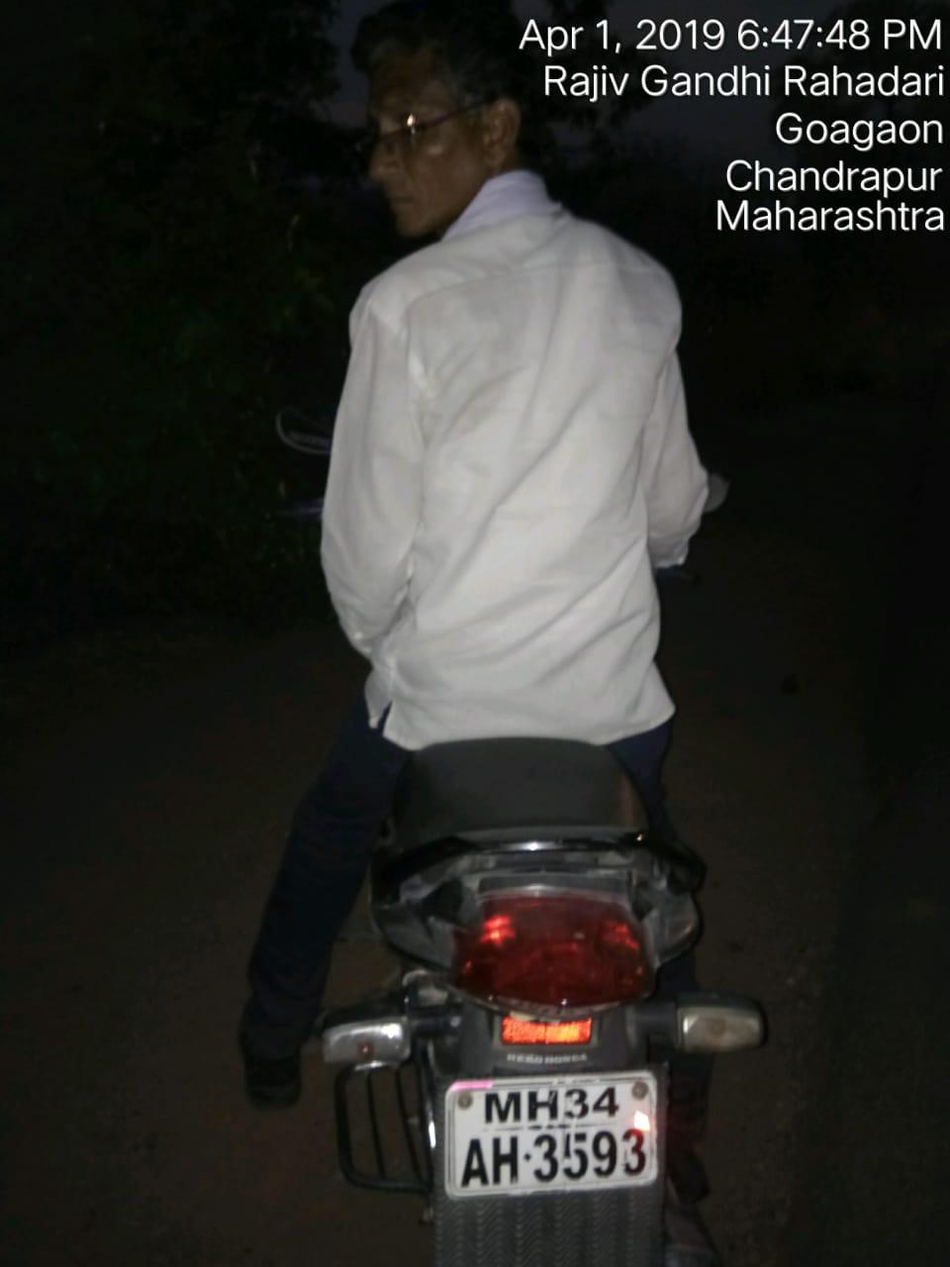plate: (440, 1065, 676, 1209)
